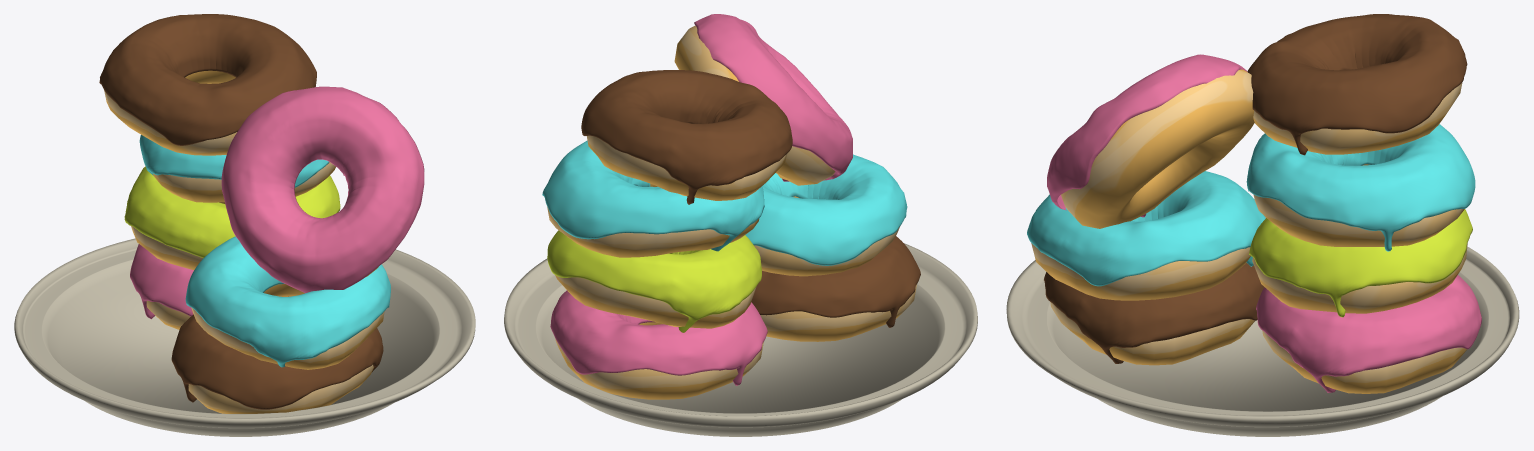
File: first.glb
3 views of the same model, side by side, from view 1: azimuth 30°, elevation 25°; view 2: azimuth 150°, elevation 25°; view 3: azimuth 270°, elevation 25° (orthographic). The views are drawn at different scales.
Parts seen in each view (by area): view 1: Plate, icing.001, icing.006, icing.008, icing.002, icing.004, icing.005, icing.003; view 2: Plate, icing.006, icing.003, icing.005, icing.004, icing.008, icing.002, icing.001, donut.001; view 3: Plate, icing.006, icing.005, icing.008, icing.003, donut.001, icing.004, icing.002, icing.001.
Part boxes in pixels (x1=…): Plate: x1=14, y1=238, x2=475, y2=436; icing.001: x1=221, y1=86, x2=424, y2=293; icing.006: x1=99, y1=14, x2=316, y2=155; icing.008: x1=185, y1=236, x2=390, y2=369; icing.002: x1=171, y1=296, x2=383, y2=413; icing.004: x1=124, y1=166, x2=340, y2=270; icing.005: x1=139, y1=135, x2=335, y2=202; icing.003: x1=130, y1=244, x2=193, y2=329; Plate: x1=504, y1=243, x2=977, y2=436; icing.006: x1=581, y1=70, x2=792, y2=204; icing.003: x1=550, y1=290, x2=767, y2=399; icing.005: x1=542, y1=140, x2=764, y2=257; icing.004: x1=547, y1=230, x2=761, y2=332; icing.008: x1=745, y1=154, x2=907, y2=276; icing.002: x1=751, y1=236, x2=920, y2=341; icing.001: x1=694, y1=14, x2=852, y2=181; donut.001: x1=674, y1=25, x2=835, y2=185; Plate: x1=1006, y1=217, x2=1519, y2=436; icing.006: x1=1247, y1=14, x2=1467, y2=155; icing.005: x1=1246, y1=124, x2=1475, y2=251; icing.008: x1=1027, y1=171, x2=1265, y2=300; icing.003: x1=1256, y1=275, x2=1481, y2=393; donut.001: x1=1061, y1=69, x2=1254, y2=228; icing.004: x1=1249, y1=209, x2=1472, y2=317; icing.002: x1=1044, y1=263, x2=1264, y2=365; icing.001: x1=1047, y1=54, x2=1247, y2=217.
Bounding box in the file's own units: 0.7428 × 0.5029 × 0.7436.
6 materials, 1 textured.
